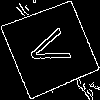V: (25, 24, 81, 72)
